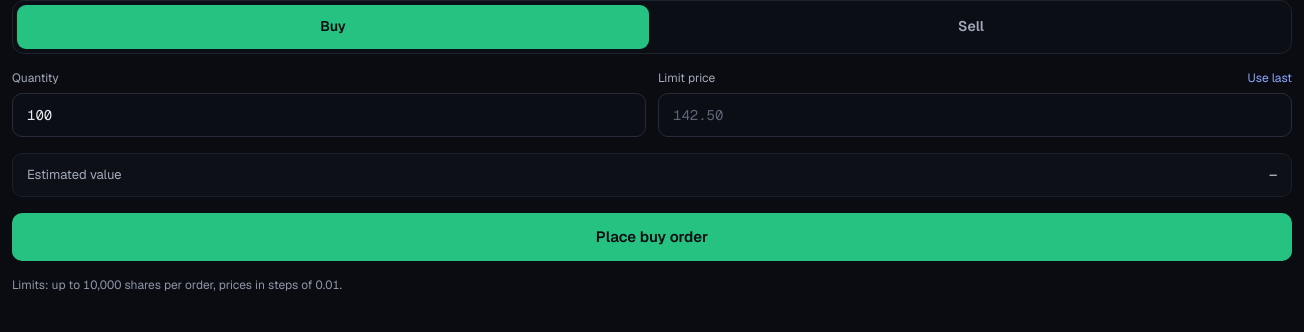
OrderTicket › validation › shows a field message once the field is left, and clears it when fixed
The width and height of the screenshot is (1304, 332).
Replace the text in the field labelled "Quantity" with "20000" at [329, 115], box x1=12 y1=93 x2=646 y2=137
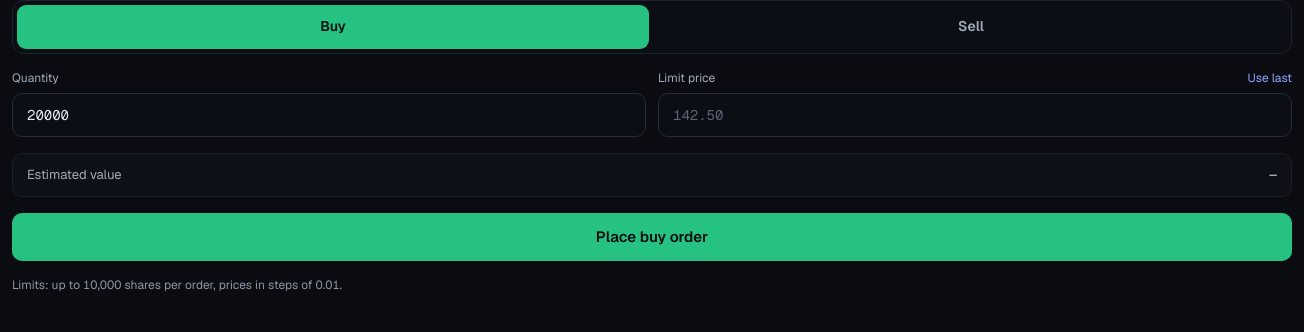
Expected: the text "Quantity must be between 1 and 10,000" is not shown
Leave the field labelled "Quantity", box x1=12 y1=93 x2=646 y2=137
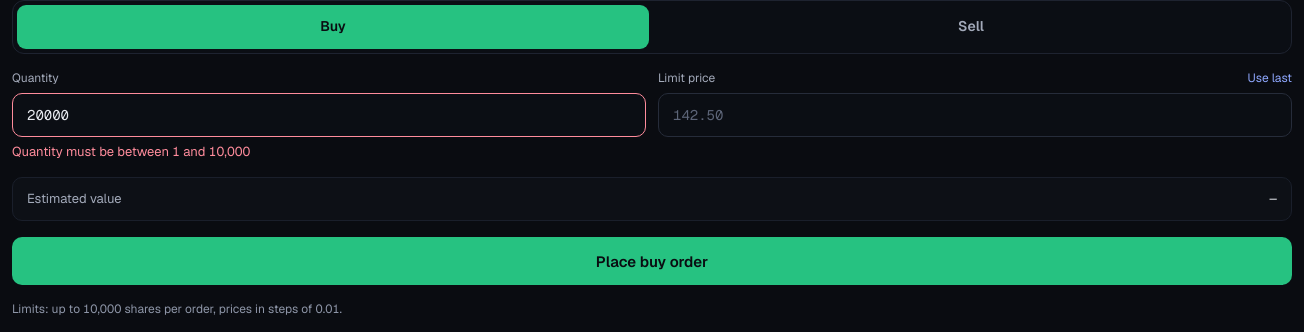
Result: the text "Quantity must be between 1 and 10,000" is shown at x1=12 y1=143 x2=250 y2=160
Replace the text in the field labelled "Quantity" with "200" at [329, 115], box x1=12 y1=93 x2=646 y2=137
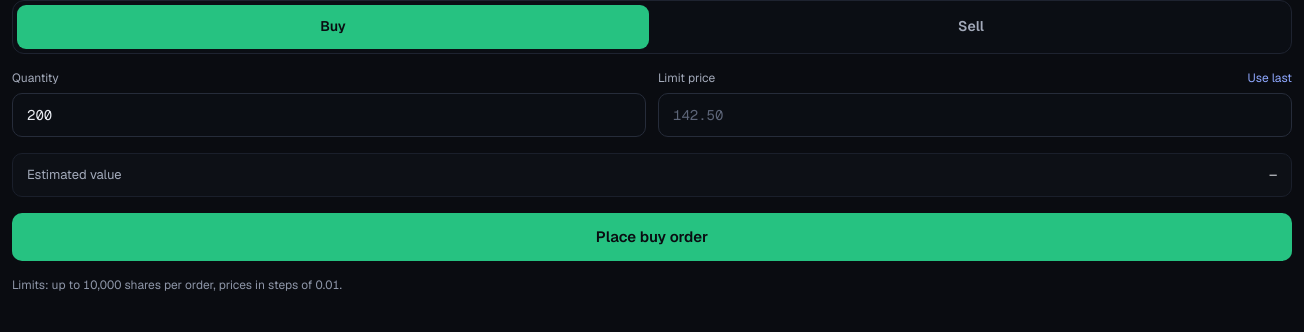
Result: the text "Quantity must" is gone
